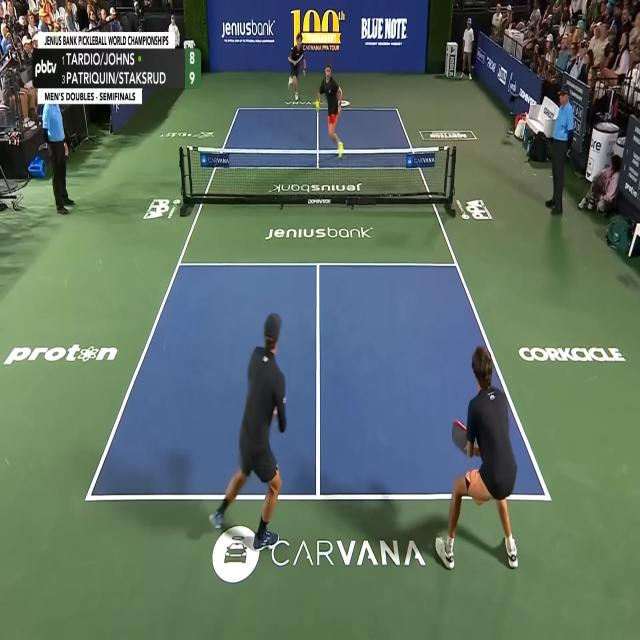ball: (314, 100, 320, 110)
